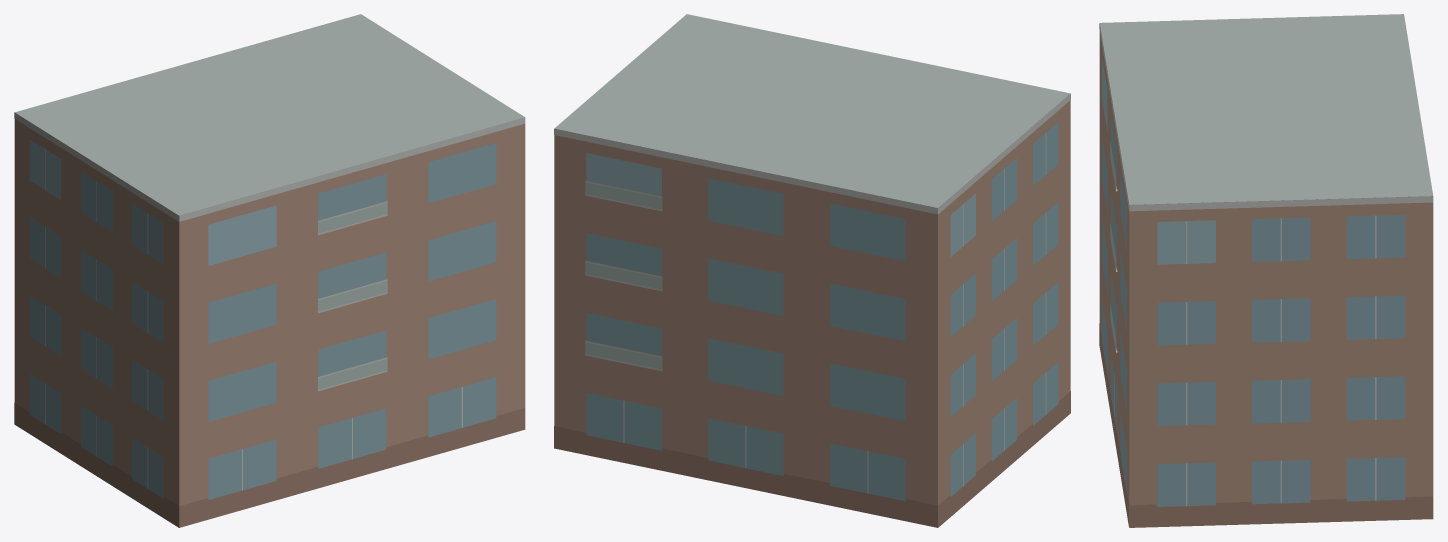
File: residential-a31a6dbd-a763-45f3-8fae-b55fa91bdd58.glb
The picture shows the model from 3 angles, left to right: view 1: azimuth 30°, elevation 25°; view 2: azimuth 150°, elevation 25°; view 3: azimuth 270°, elevation 25°; orthographic projection. The views are drawn at different scales.
Visible parts, largest first — view 1: residential-a31a6dbd-a763-45f3-8fae-b55fa91bdd58.tmp; view 2: residential-a31a6dbd-a763-45f3-8fae-b55fa91bdd58.tmp; view 3: residential-a31a6dbd-a763-45f3-8fae-b55fa91bdd58.tmp.
Part boxes in pixels (bbox=[...]): residential-a31a6dbd-a763-45f3-8fae-b55fa91bdd58.tmp: bbox=[14, 14, 525, 527]; residential-a31a6dbd-a763-45f3-8fae-b55fa91bdd58.tmp: bbox=[554, 14, 1070, 527]; residential-a31a6dbd-a763-45f3-8fae-b55fa91bdd58.tmp: bbox=[1099, 14, 1433, 527].
Size of the model in its own units: 15.47 by 12.2 by 11.43.
